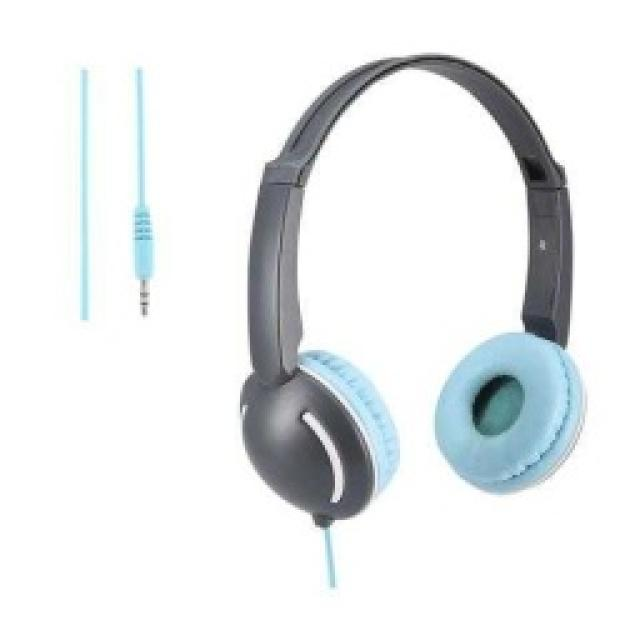headphones: (237, 50, 585, 528)
